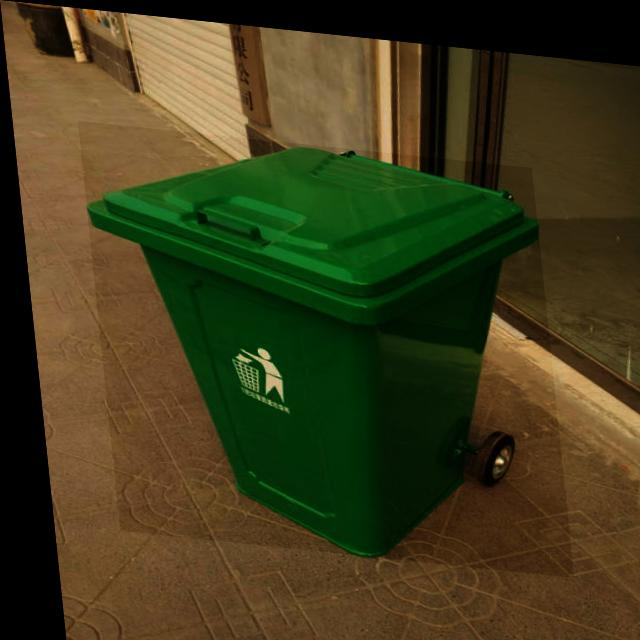garbage_bin: (76, 120, 563, 566)
